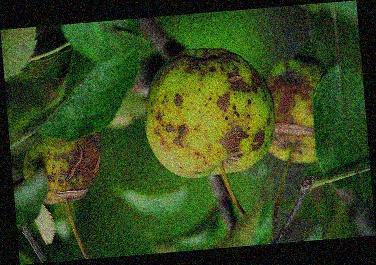rotten apple: (138, 45, 273, 178), (264, 55, 342, 168), (16, 127, 107, 204)
